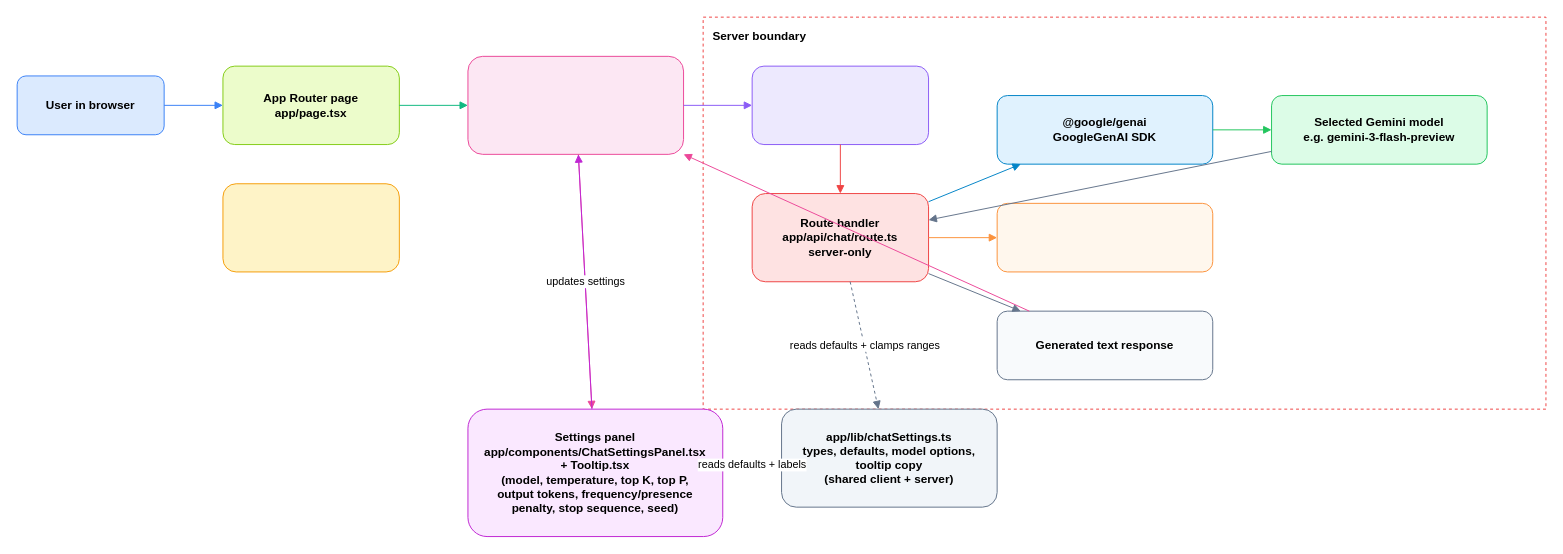
This 1563x554 diagram has some shape labels left out. The centre of each missing label's shape, as x and y in pixels:
Client chat UI app/components/Chat.tsx React state + events: pixel 575 104
GOOGLE_GENAI_API_KEY environment variable: pixel 1104 237
POST /api/chat JSON: { messages, settings }: pixel 840 105
Root layout app/layout.tsx + app/globals.css: pixel 310 227
